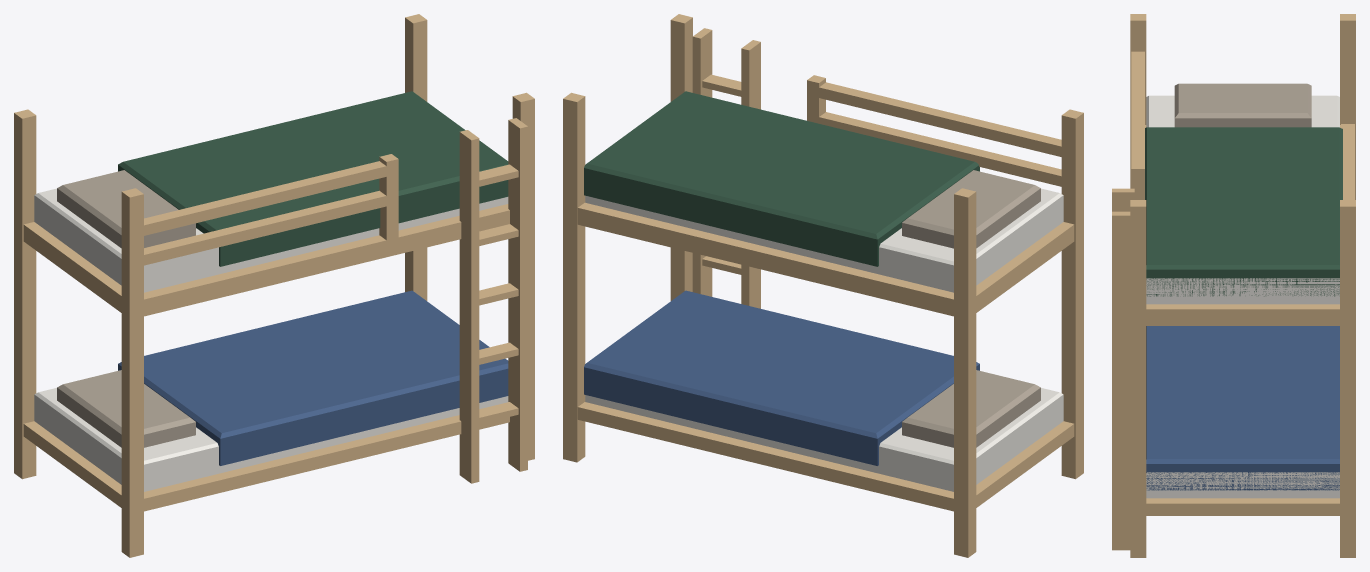
File: FN_Bed_Bunk.glb
3 renders of one model, left to right at view 1: azimuth 30°, elevation 25°; view 2: azimuth 150°, elevation 25°; view 3: azimuth 270°, elevation 25°, orthographic. The views are drawn at different scales.
Visible parts, largest first — view 1: FN_Bed_Bunk; view 2: FN_Bed_Bunk; view 3: FN_Bed_Bunk.
Boxes of the visible parts, left/top/right/bottom form: FN_Bed_Bunk: left=14, top=14, right=534, bottom=557; FN_Bed_Bunk: left=563, top=14, right=1083, bottom=557; FN_Bed_Bunk: left=1112, top=14, right=1355, bottom=557.
Size of the model in its own units: 2 by 1.7 by 1.07.
1 material, 1 textured.
